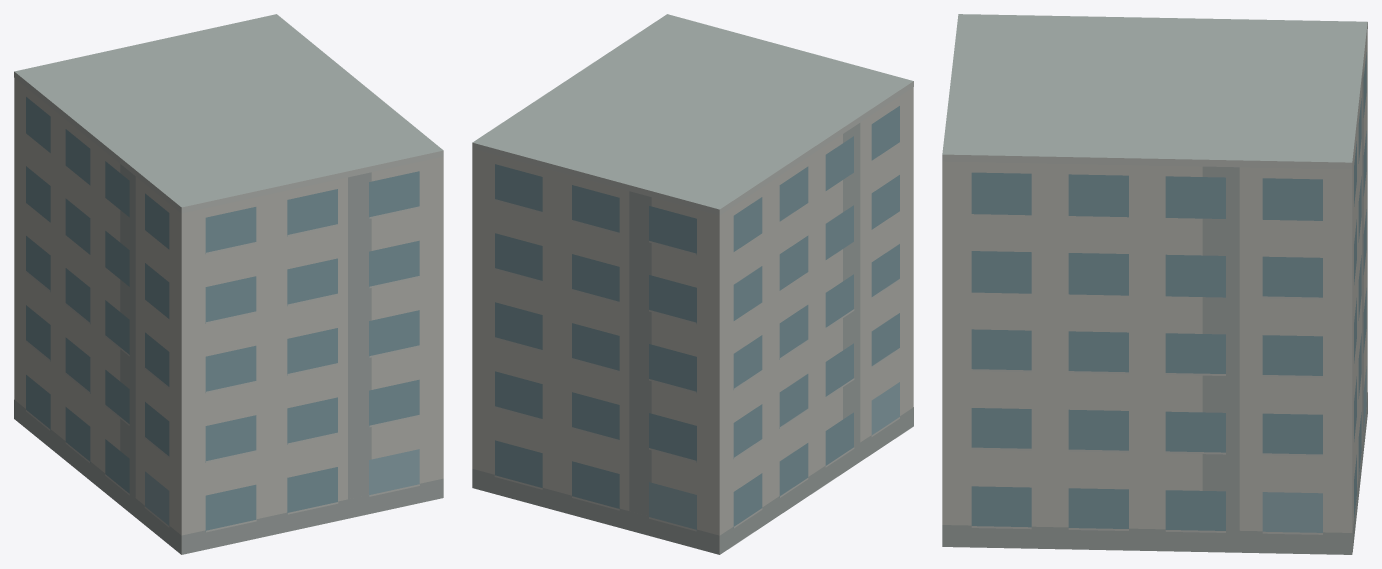
File: survey-upis-32827173.glb
The picture shows the model from 3 angles, left to right: view 1: azimuth 30°, elevation 25°; view 2: azimuth 150°, elevation 25°; view 3: azimuth 270°, elevation 25°; orthographic projection. The views are drawn at different scales.
Parts seen in each view (by area): view 1: survey-upis-32827173.tmp; view 2: survey-upis-32827173.tmp; view 3: survey-upis-32827173.tmp.
Part boxes in pixels (<box>): survey-upis-32827173.tmp: <box>14,14,443,554</box>; survey-upis-32827173.tmp: <box>472,14,913,554</box>; survey-upis-32827173.tmp: <box>942,14,1367,554</box>.
Size of the model in its own units: 11.3 by 13.9 by 13.67.
